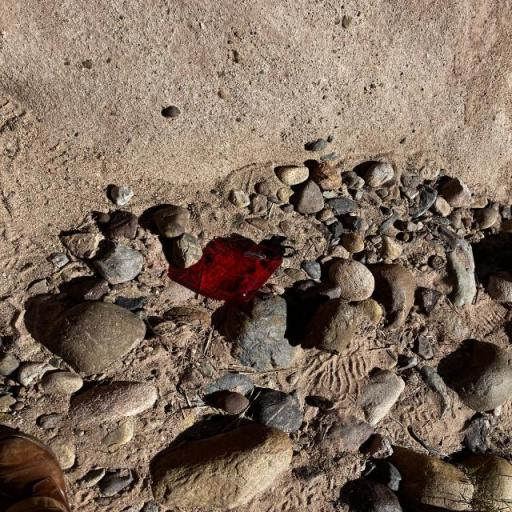bottle: (212, 239, 296, 307)
